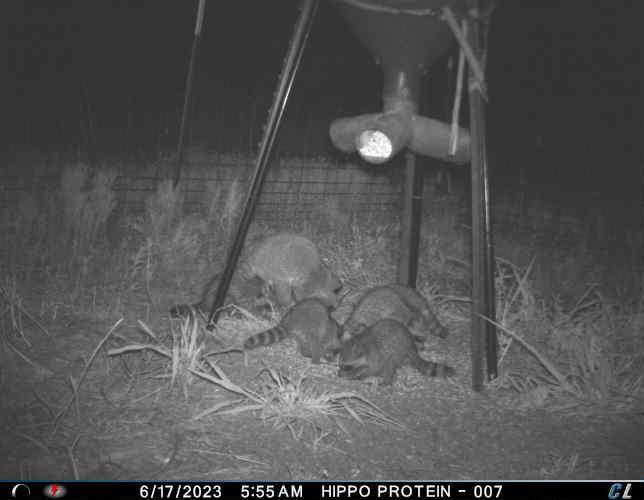Raccoon: (220, 229, 344, 312), (338, 319, 461, 387), (334, 282, 454, 345), (244, 296, 339, 362), (171, 267, 261, 322)
